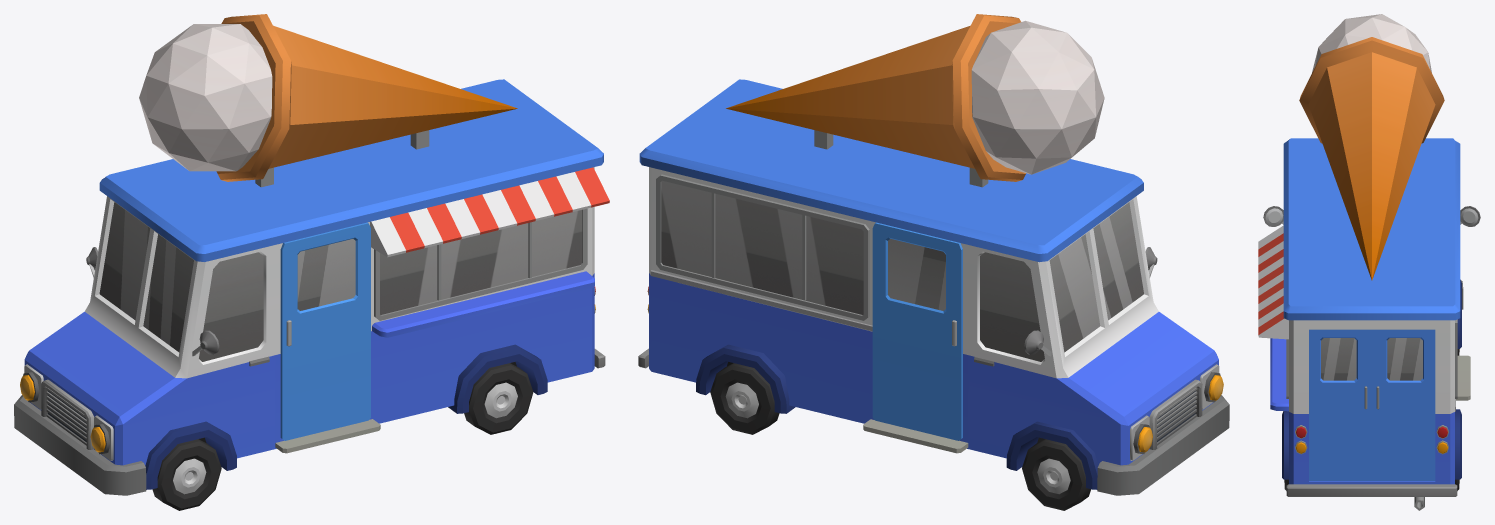
Rendered from IceTruck_1_H.gltf.
3 renders of one model, left to right at view 1: azimuth 30°, elevation 25°; view 2: azimuth 150°, elevation 25°; view 3: azimuth 270°, elevation 25°, orthographic. The views are drawn at different scales.
Visible parts, largest first — view 1: IceTruck_1_H, RL, FL; view 2: IceTruck_1_H, RR, FR; view 3: IceTruck_1_H.
Part boxes in pixels (box(x1,y1,x2,y2)): IceTruck_1_H: box(14, 14, 609, 495); RL: box(464, 363, 533, 434); FL: box(152, 439, 221, 510); IceTruck_1_H: box(638, 14, 1229, 495); RR: box(710, 363, 779, 434); FR: box(1022, 439, 1090, 510); IceTruck_1_H: box(1258, 14, 1480, 510).
Size of the model in its own units: 4.16 by 3.38 by 1.84.
4 materials, 4 textured.
